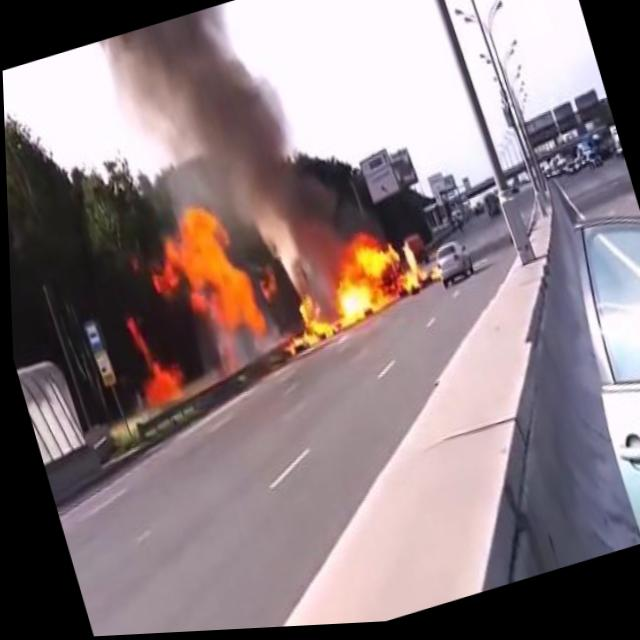fire: (124, 179, 270, 366), (312, 215, 442, 338), (108, 300, 196, 420), (268, 282, 343, 367)
